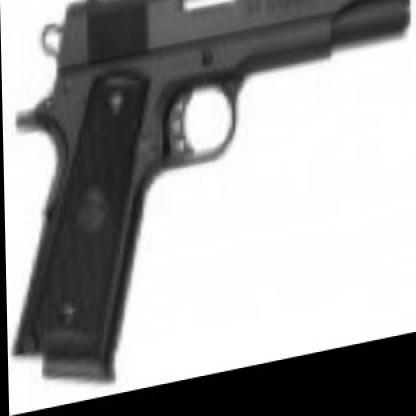pistol: (2, 0, 413, 395)
